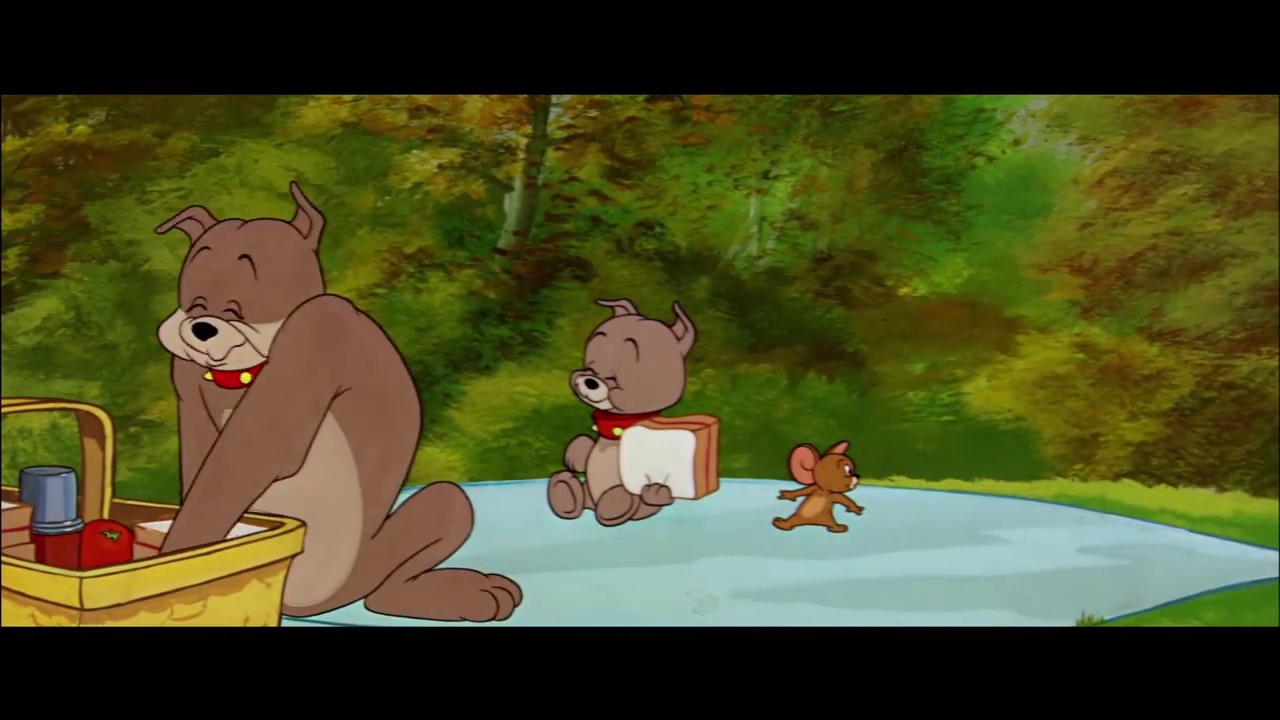spike: (149, 176, 328, 393)
